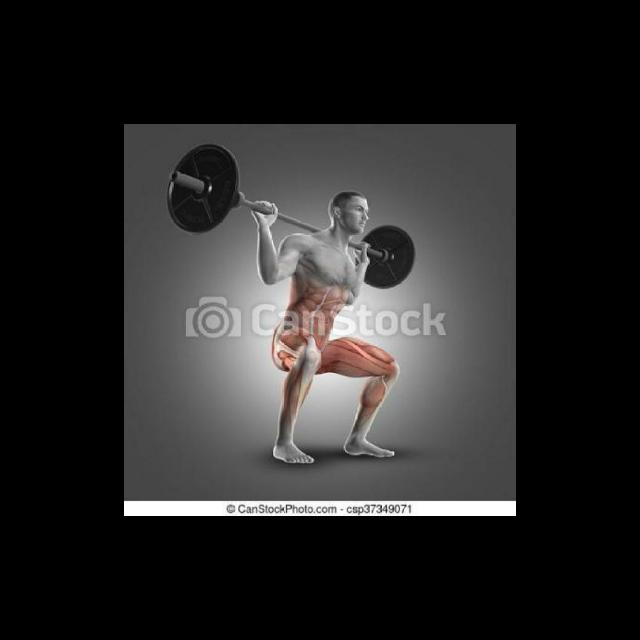barbell: (163, 143, 243, 234)
